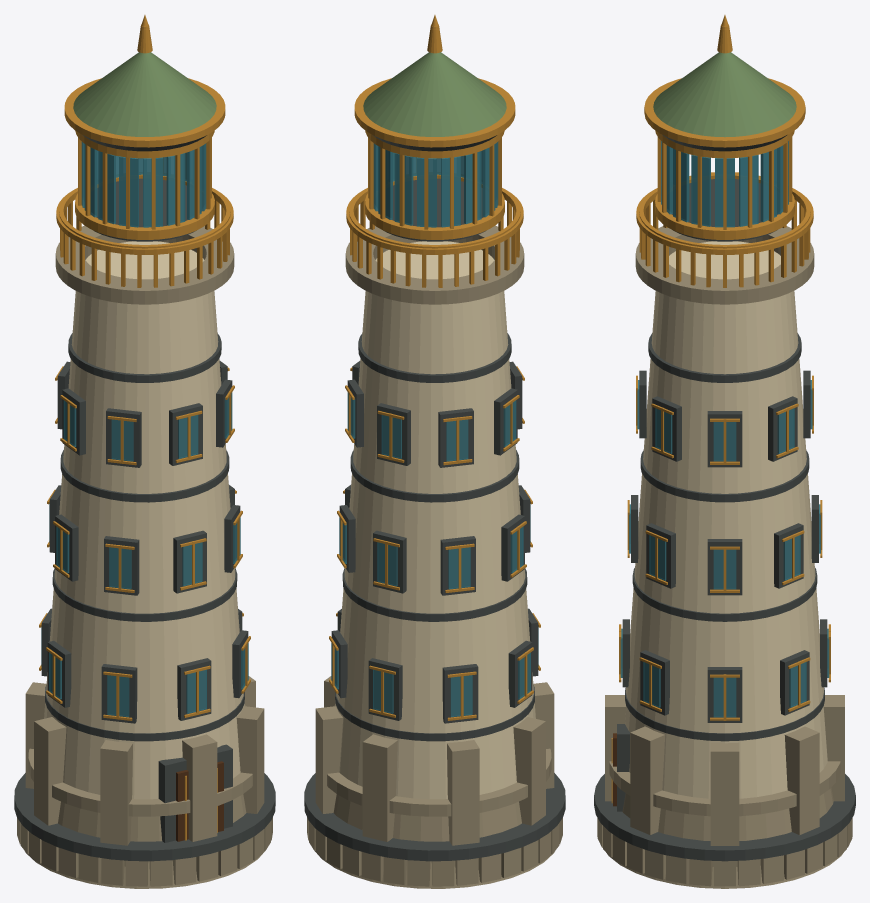
Rendered from coastal_lighthouse.obj.
3 renders of one model, left to right at view 1: azimuth 30°, elevation 25°; view 2: azimuth 150°, elevation 25°; view 3: azimuth 270°, elevation 25°, orthographic.
Visible parts, largest first — view 1: CoastalLighthouse; view 2: CoastalLighthouse; view 3: CoastalLighthouse.
Part boxes in pixels (x1,y1,x2,y2): CoastalLighthouse: [14, 15, 275, 888]; CoastalLighthouse: [304, 15, 565, 888]; CoastalLighthouse: [594, 15, 855, 888].
Size of the model in its own units: 5.72 by 19.82 by 5.72.
